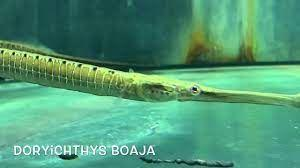Long-Snouted Pipefish: (0, 33, 300, 112)
